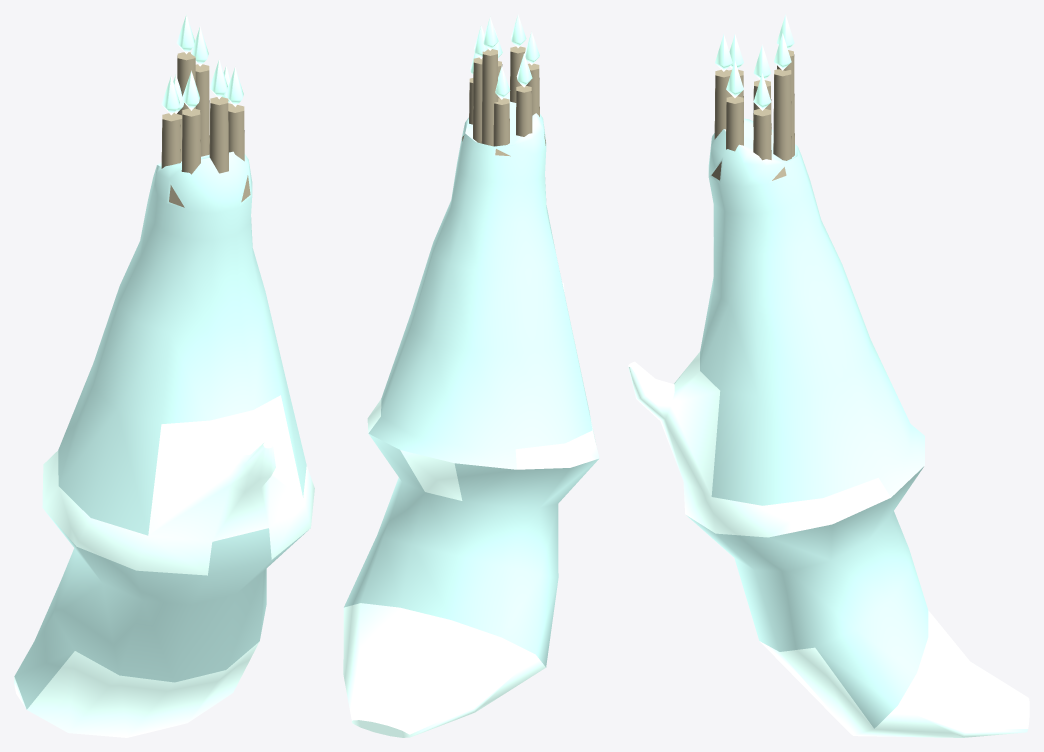
The model's file is ShadeMourner.fbx.
3 views of the same model, side by side, from view 1: azimuth 30°, elevation 25°; view 2: azimuth 150°, elevation 25°; view 3: azimuth 270°, elevation 25° (orthographic). The views are drawn at different scales.
Parts seen in each view (by area): view 1: ShadeMourner; view 2: ShadeMourner; view 3: ShadeMourner.
Part boxes in pixels (left/top/right/bottom): ShadeMourner: left=14, top=14, right=314, bottom=737; ShadeMourner: left=343, top=14, right=599, bottom=737; ShadeMourner: left=628, top=14, right=1029, bottom=737.
Size of the model in its own units: 0.7144 by 2.15 by 1.1.
